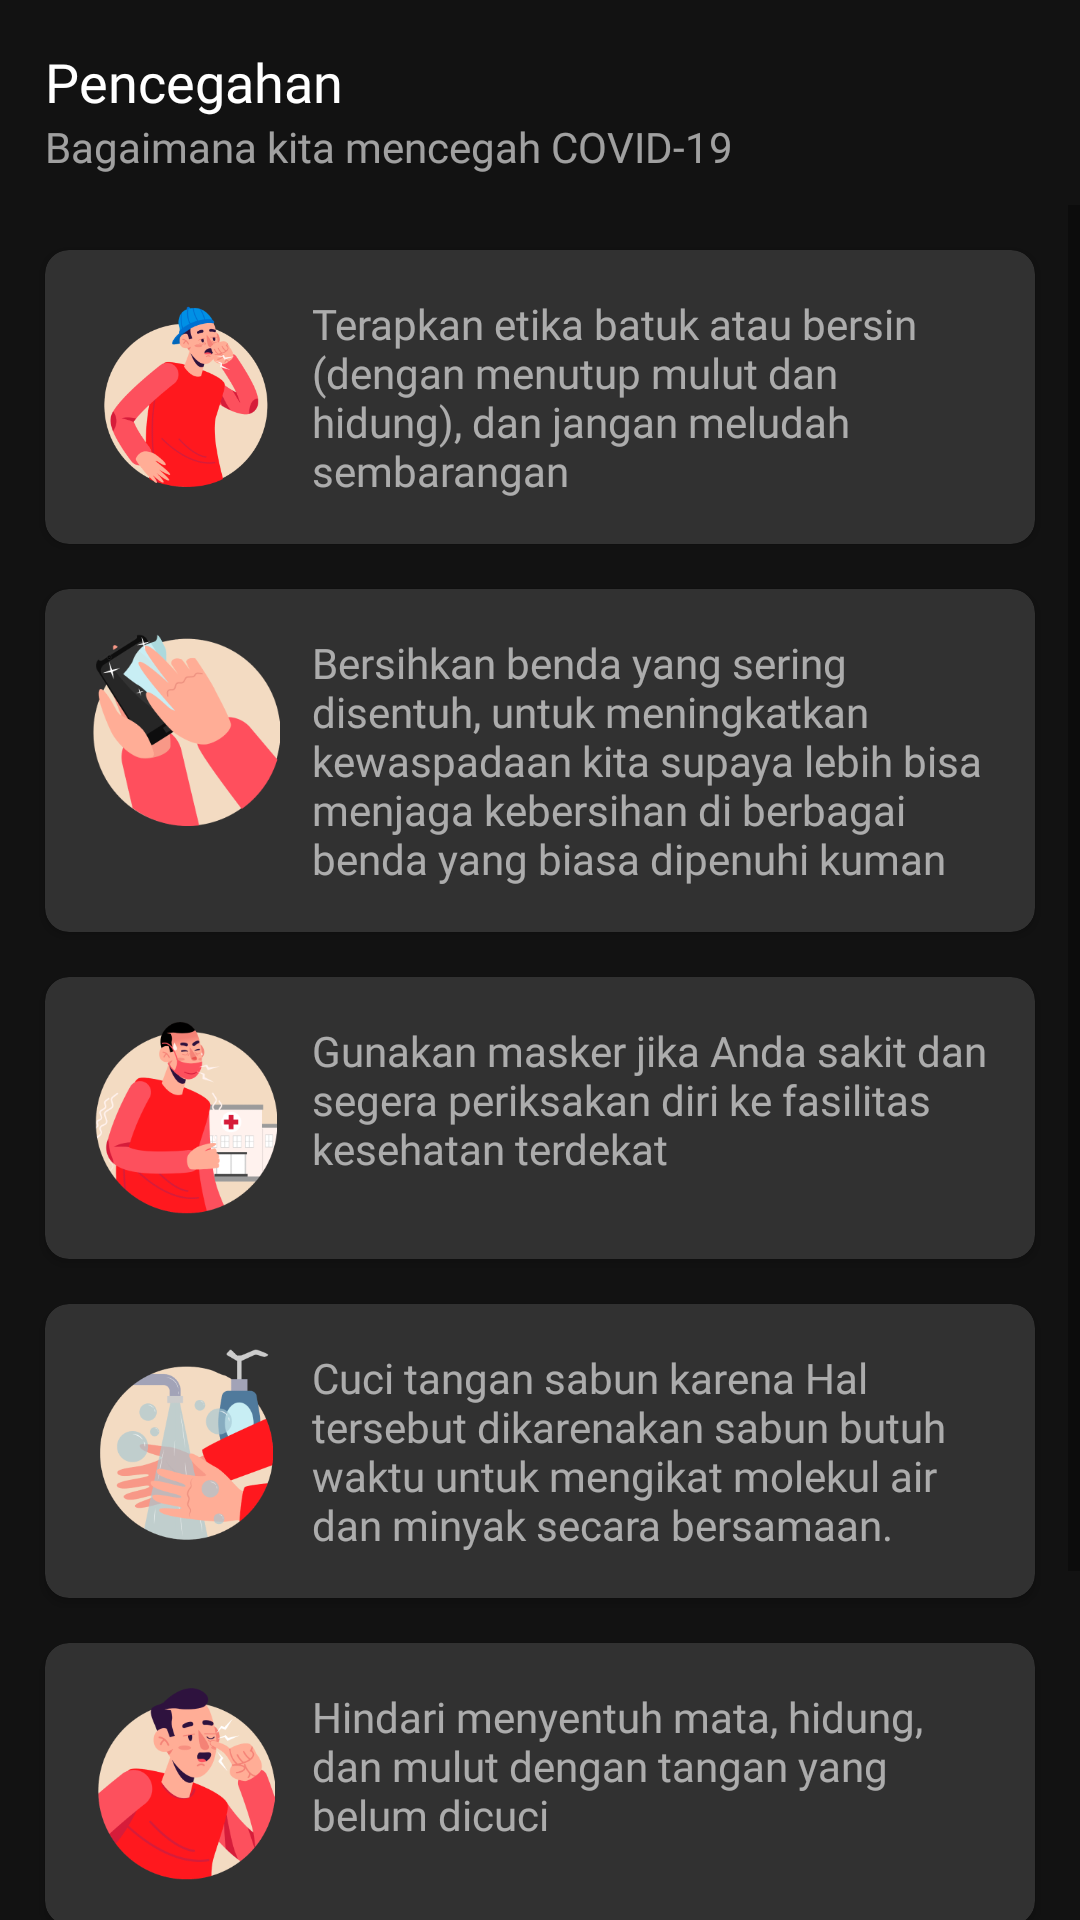

Point at icon controls on the screen. Image size 1080 x 1920, points as point (x, y).
ngucek: point (186, 1784)
pic batuk: point (186, 397)
